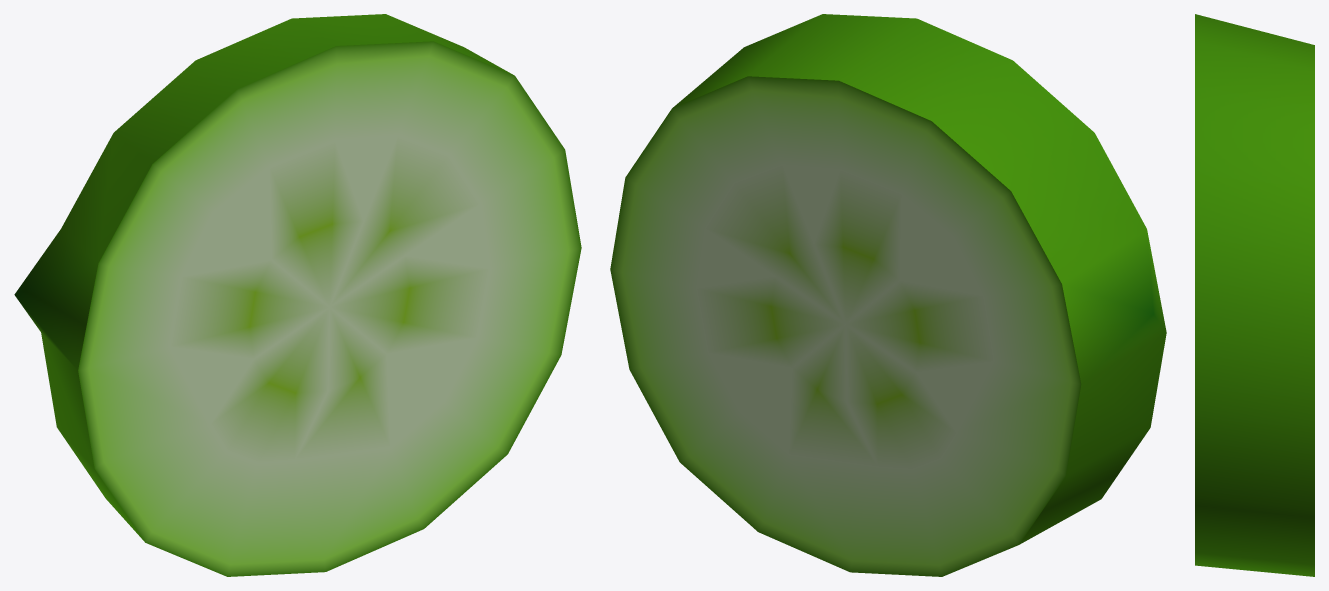
The model's file is Cucumber_Slice_19.fbx.
The picture shows the model from 3 angles, left to right: view 1: azimuth 30°, elevation 25°; view 2: azimuth 150°, elevation 25°; view 3: azimuth 270°, elevation 25°; orthographic projection. The views are drawn at different scales.
Parts seen in each view (by area): view 1: Cucumber_Slice_19; view 2: Cucumber_Slice_19; view 3: Cucumber_Slice_19.
Part boxes in pixels (x1,y1,x2,y2): Cucumber_Slice_19: (14, 14, 581, 576); Cucumber_Slice_19: (610, 14, 1166, 576); Cucumber_Slice_19: (1195, 14, 1314, 576).
Bounding box in the file's own units: 4.25 × 3.99 × 0.8571.
